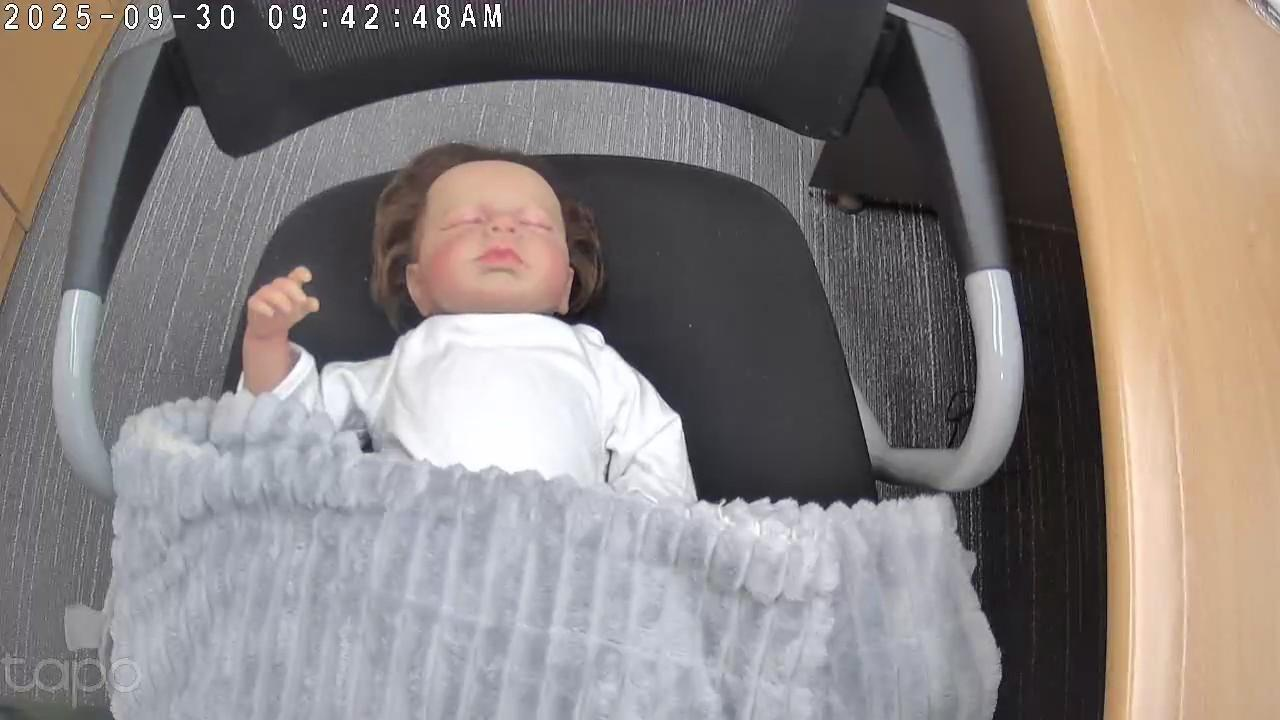hand: (242, 263, 320, 343)
